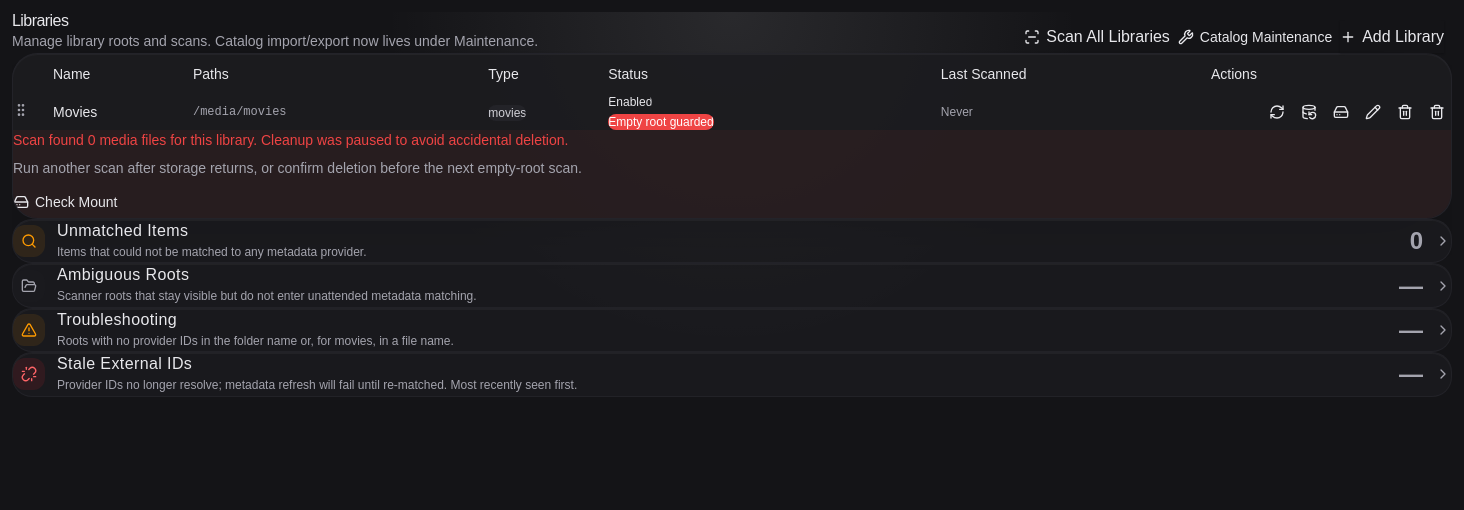
Test case: AdminLibraries › keeps the unmatched section while every item is ignored
This screenshot has width=1464, height=510.
Click the heading "Unmatched Items": click(123, 231) [57,222,188,239]
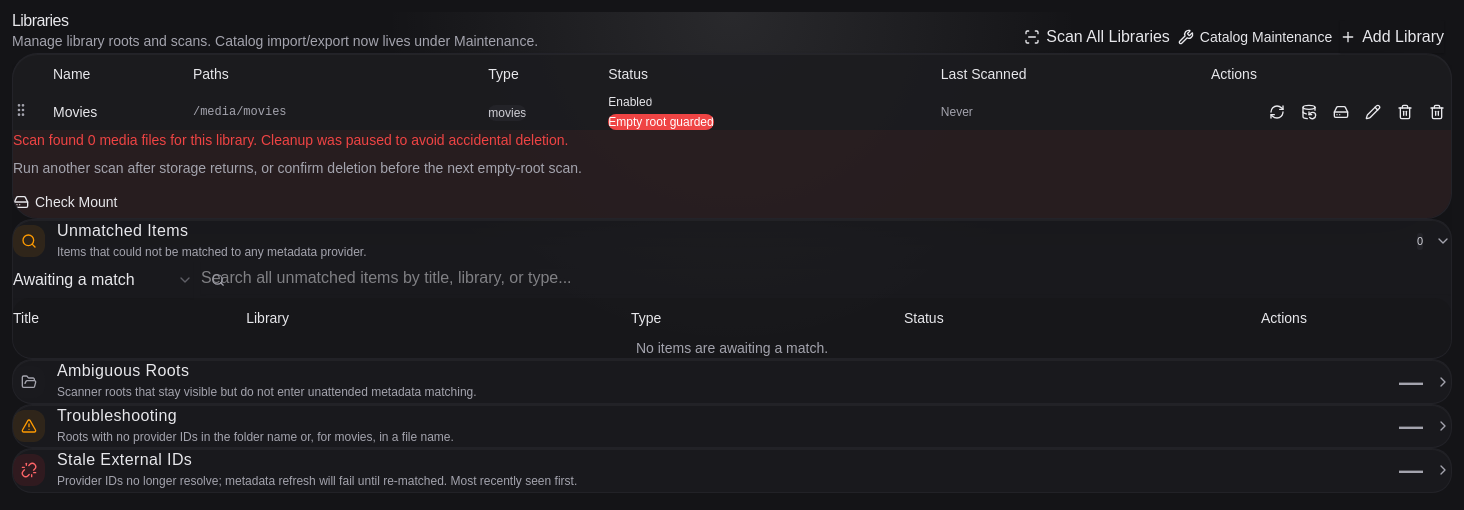
Check: the text "No items are awaiting a match." is shown, box [13,338,1451,358]
